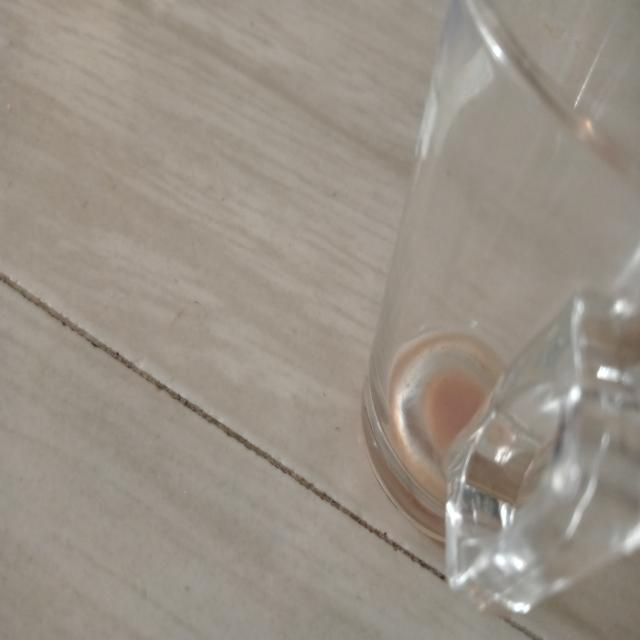glass-VX4N: (361, 0, 640, 615)
